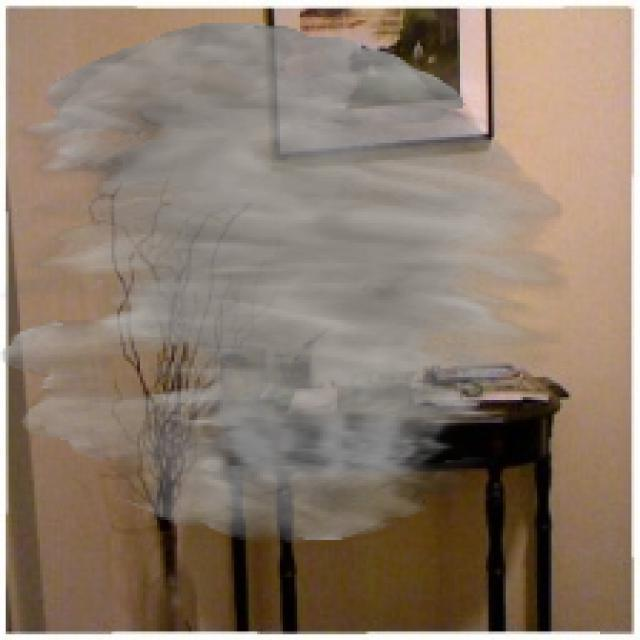Smoke: (0, 23, 569, 543)
